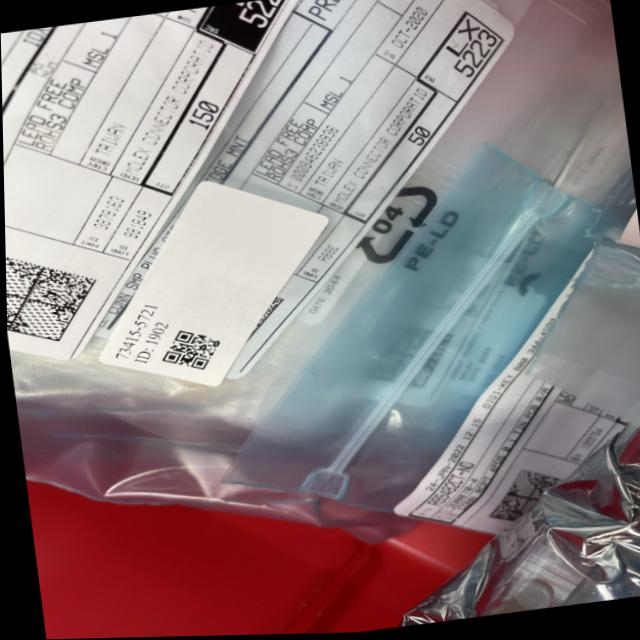datamatrix: (5, 236, 102, 347)
qrcode: (155, 324, 222, 375)
